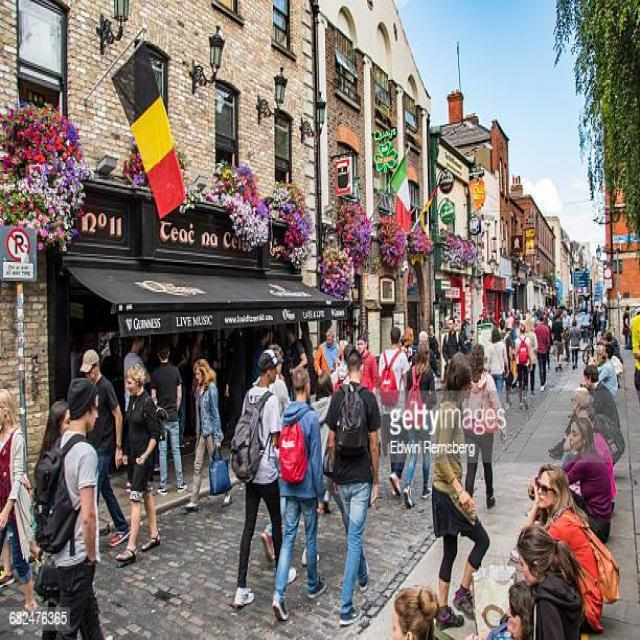Backpacks: (34, 448, 76, 555), (230, 401, 263, 485), (336, 391, 368, 458), (279, 418, 308, 485), (378, 366, 399, 406), (518, 338, 530, 364)
